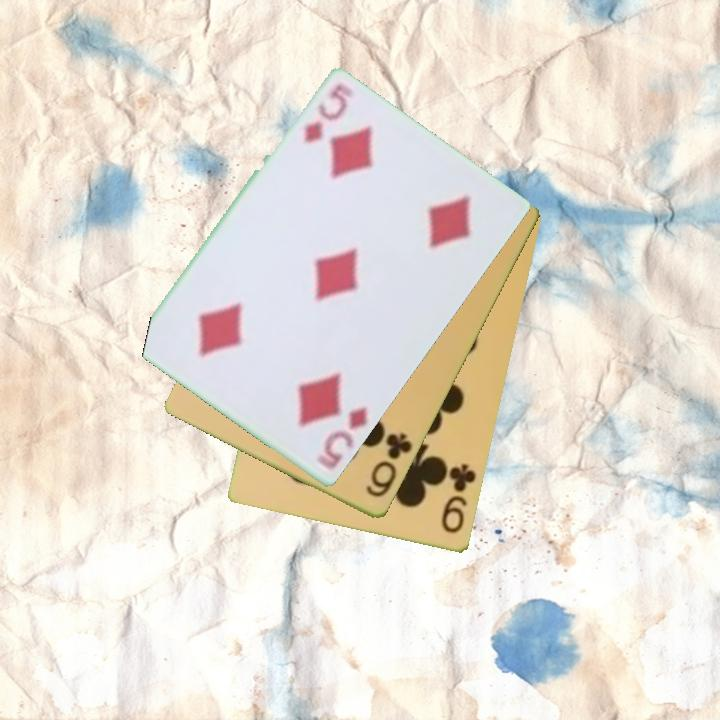5d: (313, 403, 371, 474), (300, 80, 350, 147)
6c: (362, 429, 416, 501)
9c: (438, 460, 480, 537)
